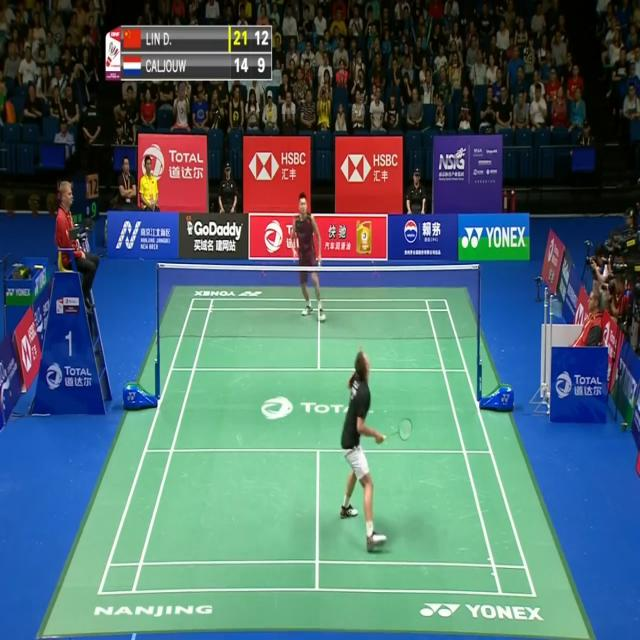Player1: (332, 340, 422, 553)
Player2: (281, 188, 331, 326)
